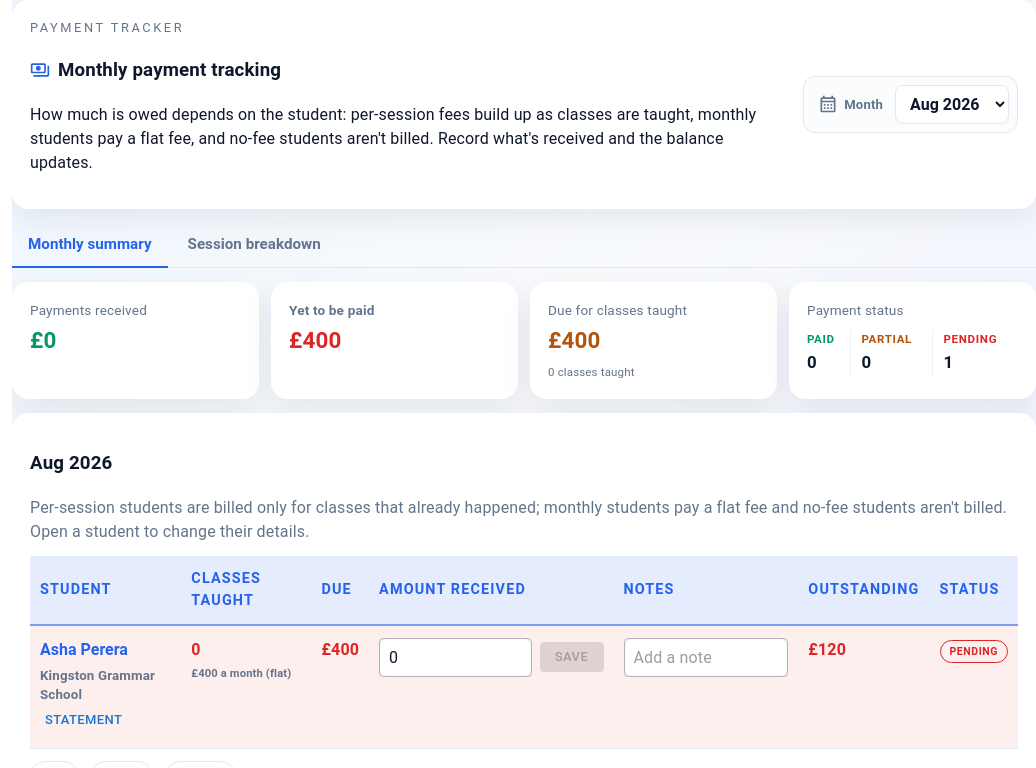
PaymentTrackerView session breakdown › shows a monthly student with no classes as a single flat-fee row
What coordinates should you click on to do the following:
click the tab "Session breakdown"
I would click on:
 (254, 245)
Its box is x1=172 y1=223 x2=337 y2=268.
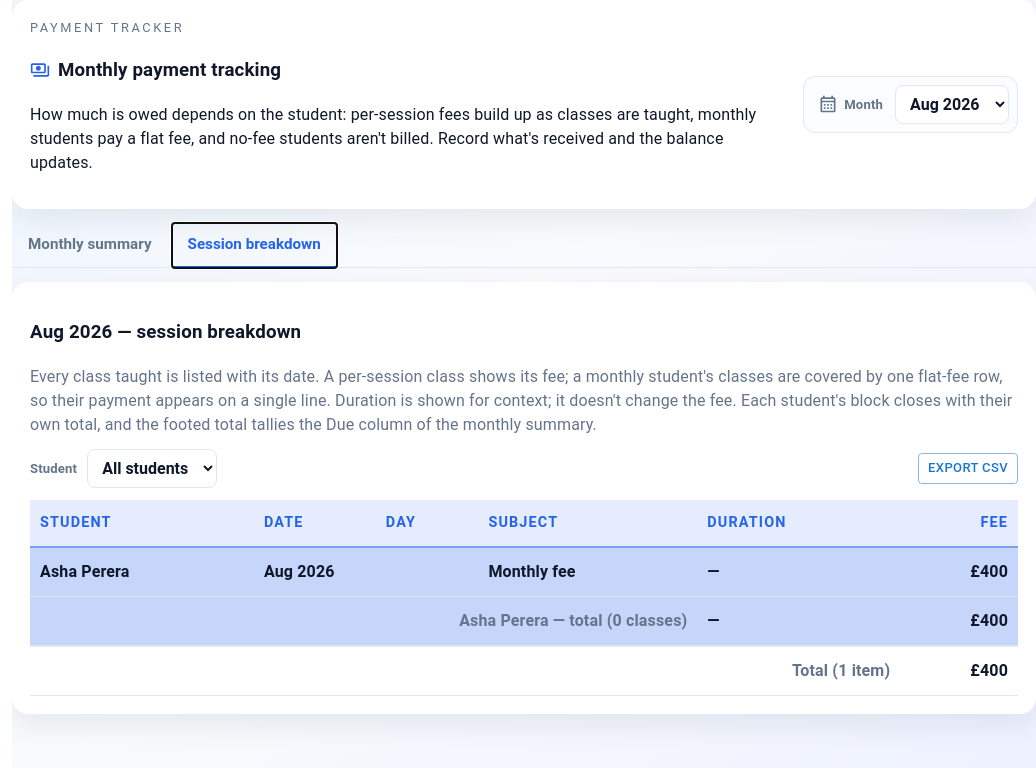
expect the text "Asha Perera" is shown: met, box x1=30 y1=547 x2=254 y2=596
expect the text "Aug 2026" is shown: met, box x1=254 y1=547 x2=478 y2=596
expect the text "—" is shown once: met, box x1=697 y1=547 x2=900 y2=596
